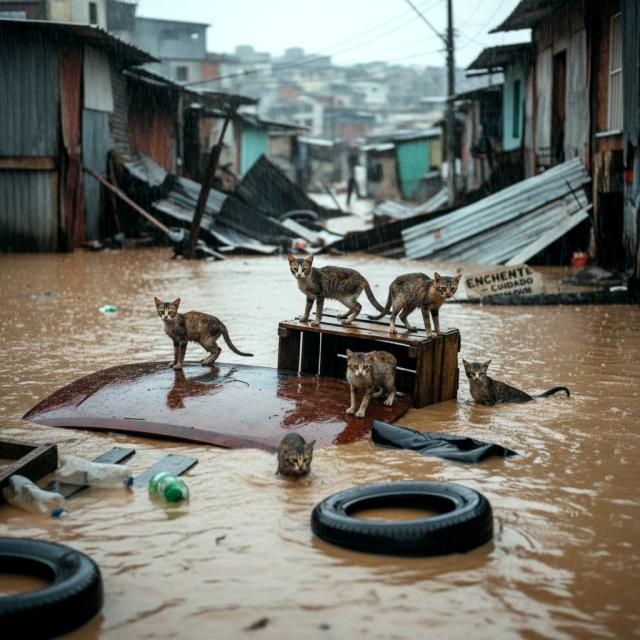cat: (137, 287, 254, 377), (277, 250, 379, 333), (455, 351, 574, 419), (378, 264, 462, 336), (337, 345, 403, 419), (274, 426, 322, 486)
